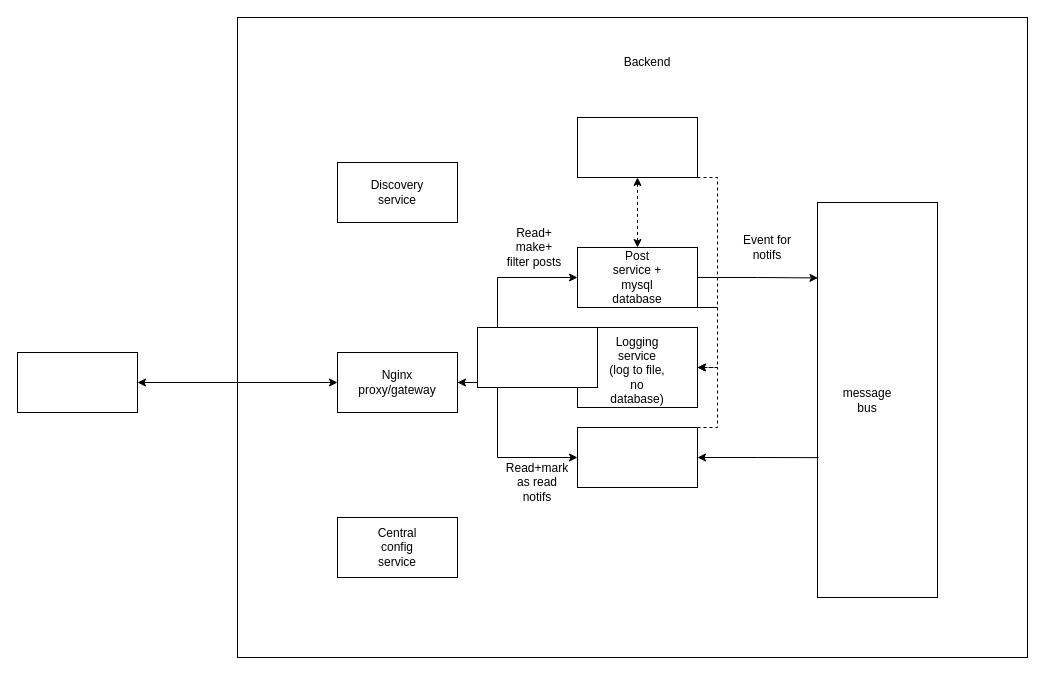
This 1045x675 diagram has some shape labels left out. Each missing label, with the box of its shape:
Angular webapp in browser: (16, 352, 138, 412)
Notification service + mysql database: (576, 426, 698, 488)
Review service + mysql database: (576, 116, 698, 178)
